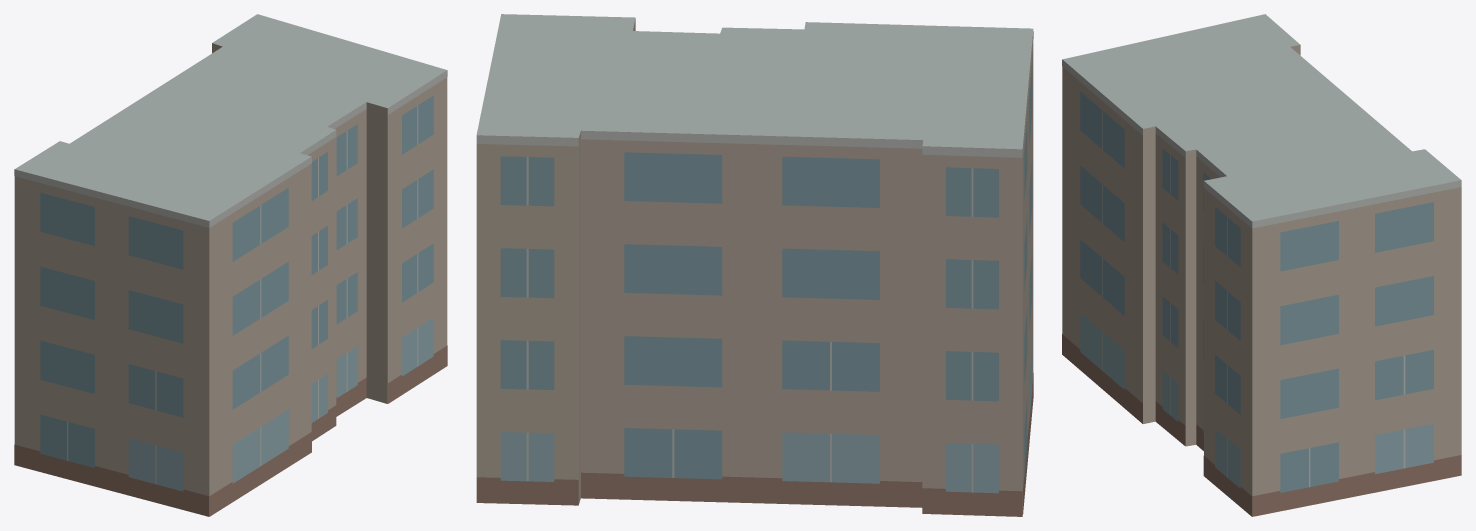
Rendered from survey-upis-32707076.glb.
3 views of the same model, side by side, from view 1: azimuth 30°, elevation 25°; view 2: azimuth 150°, elevation 25°; view 3: azimuth 270°, elevation 25° (orthographic). The views are drawn at different scales.
Visible parts, largest first — view 1: survey-upis-32707076.tmp; view 2: survey-upis-32707076.tmp; view 3: survey-upis-32707076.tmp.
Part boxes in pixels (left/top/right/bottom): survey-upis-32707076.tmp: left=14, top=14, right=447, bottom=516; survey-upis-32707076.tmp: left=476, top=14, right=1033, bottom=516; survey-upis-32707076.tmp: left=1062, top=14, right=1461, bottom=516.
Bounding box in the file's own units: 15.84 × 10.5 × 12.88.
